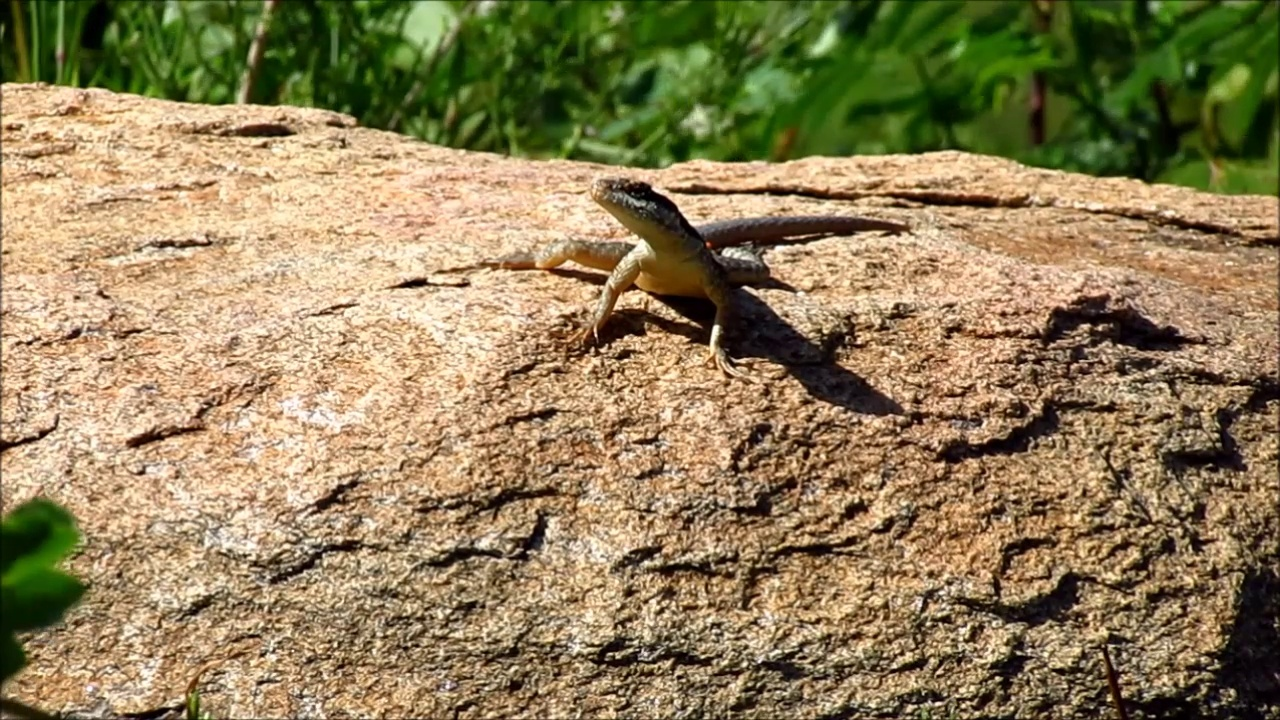body: (478, 215, 910, 385)
head: (588, 177, 675, 238)
